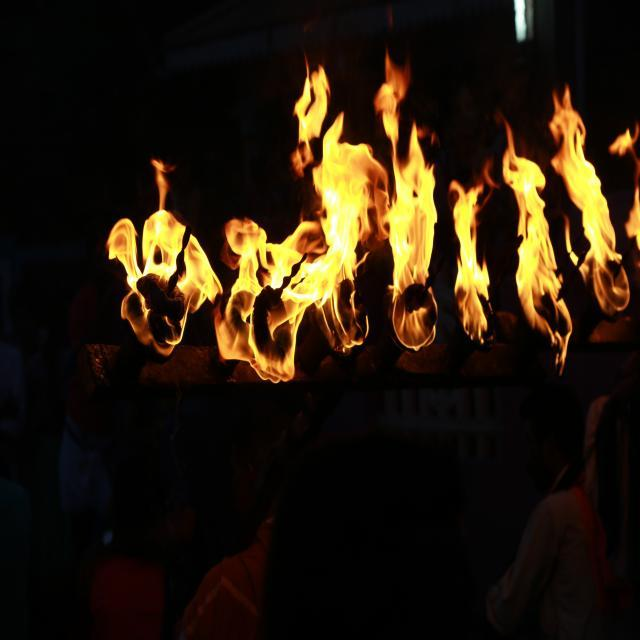Fire: (104, 48, 439, 386), (448, 85, 640, 376)
